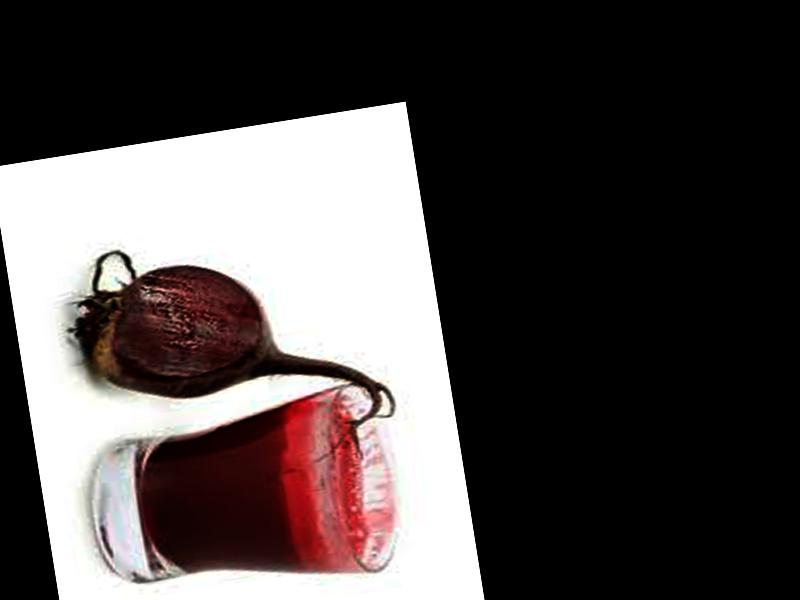Beet: (60, 212, 401, 492)
